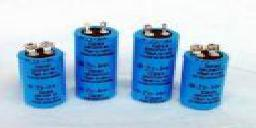Electrolytic-Capacitor: (8, 37, 75, 110), (71, 21, 123, 111), (129, 17, 177, 105), (181, 43, 233, 116)
